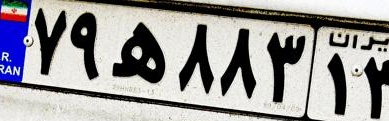character: (106, 13, 170, 91), (259, 27, 308, 110), (171, 12, 218, 95), (219, 22, 259, 107), (69, 5, 104, 84), (33, 6, 69, 80), (362, 53, 389, 121), (324, 49, 349, 120)
